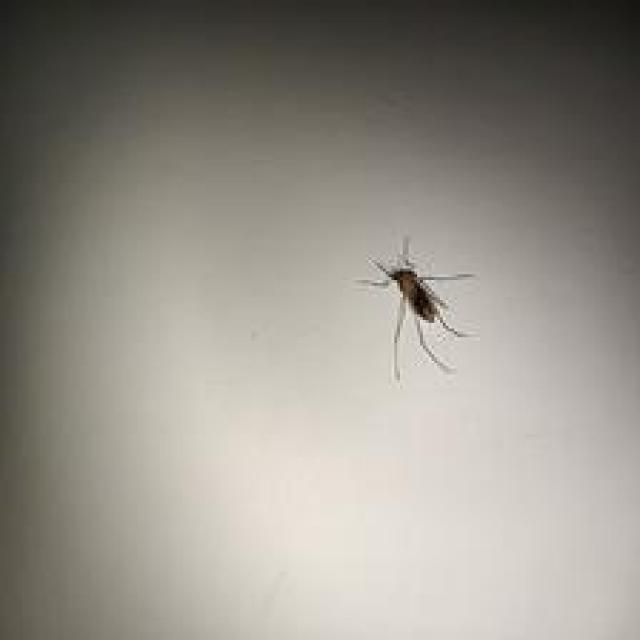Culex: (356, 234, 476, 383)
